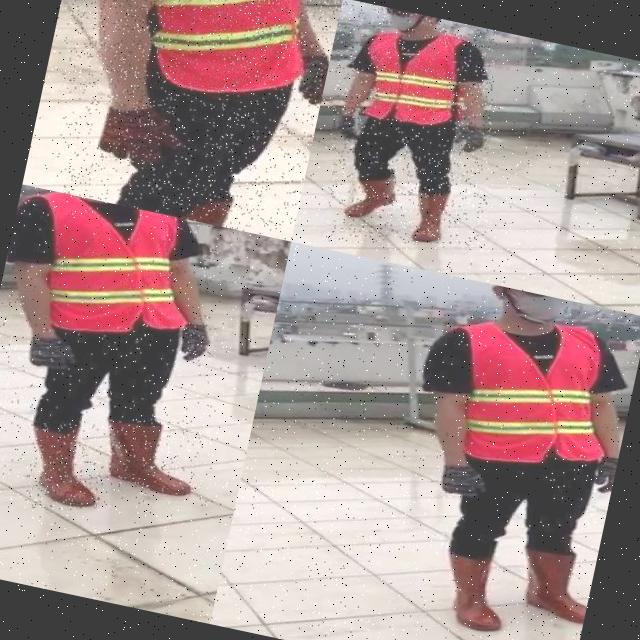boots: (94, 402, 212, 511), (12, 410, 118, 522), (505, 530, 599, 636), (428, 539, 517, 640), (176, 184, 280, 238), (337, 165, 403, 228), (400, 185, 458, 251)
vest: (427, 295, 632, 489), (4, 187, 212, 360), (111, 0, 319, 117), (351, 17, 479, 141)
